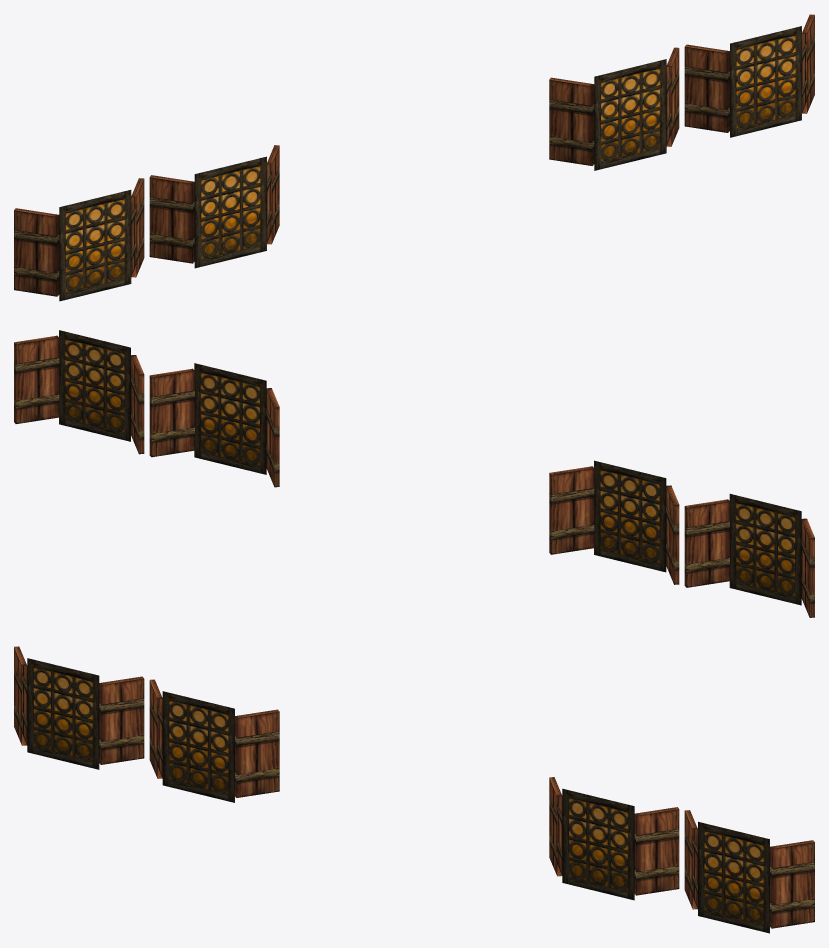
File: LAKETOWN_EXTERIOR_PS_LT_ROUND_WINDOW1_07.fbx
3 renders of one model, top to bottom at view 1: azimuth 30°, elevation 25°; view 2: azimuth 150°, elevation 25°; view 3: azimuth 330°, elevation 25°, orthographic.
Visible parts, largest first — view 1: LAKETOWN_EXTERIOR_PS_LT_ROUND_WINDOW1_07; view 2: LAKETOWN_EXTERIOR_PS_LT_ROUND_WINDOW1_07; view 3: LAKETOWN_EXTERIOR_PS_LT_ROUND_WINDOW1_07.
Part boxes in pixels (x1=…): LAKETOWN_EXTERIOR_PS_LT_ROUND_WINDOW1_07: x1=14, y1=14, x2=814, y2=301; LAKETOWN_EXTERIOR_PS_LT_ROUND_WINDOW1_07: x1=14, y1=330, x2=814, y2=617; LAKETOWN_EXTERIOR_PS_LT_ROUND_WINDOW1_07: x1=14, y1=646, x2=814, y2=933.
Bounding box in the file's own units: 130220 × 14646 × 5472.
Materials: 2 (2 with a texture image).
